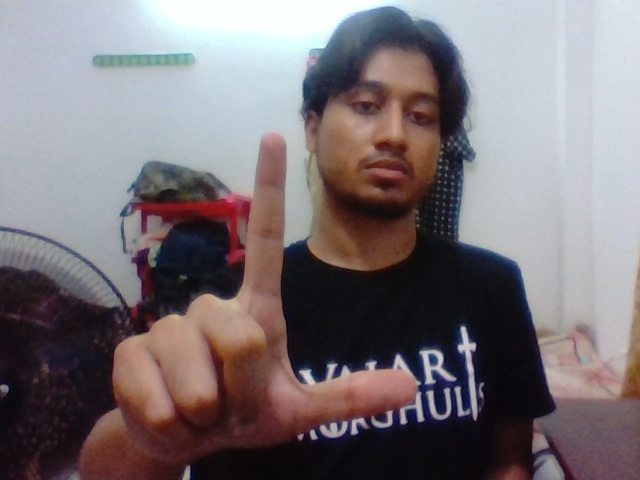L: (189, 122, 423, 438)
